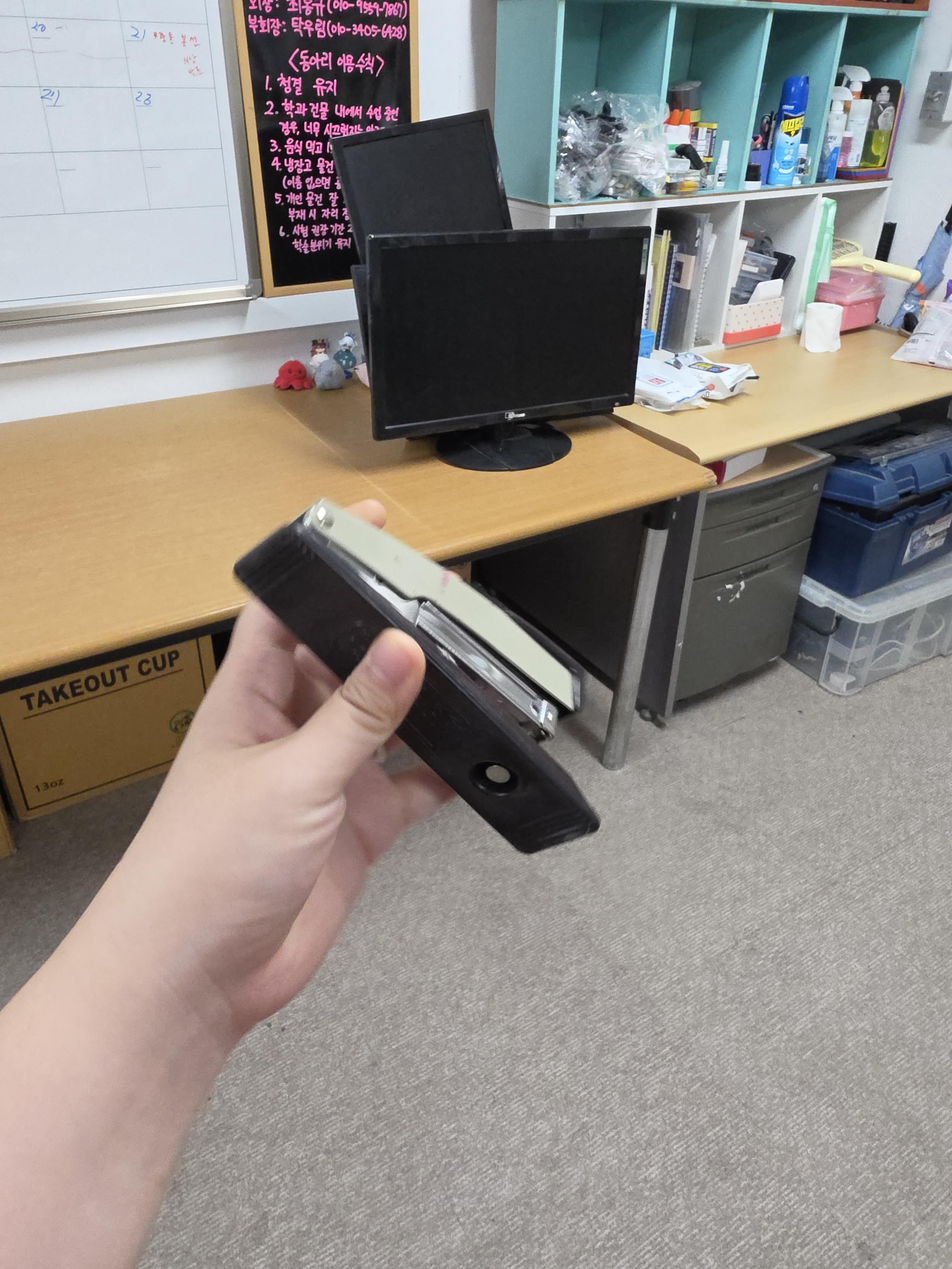stapler: (234, 497, 602, 854)
tissue: (723, 279, 785, 346), (802, 301, 843, 354)
